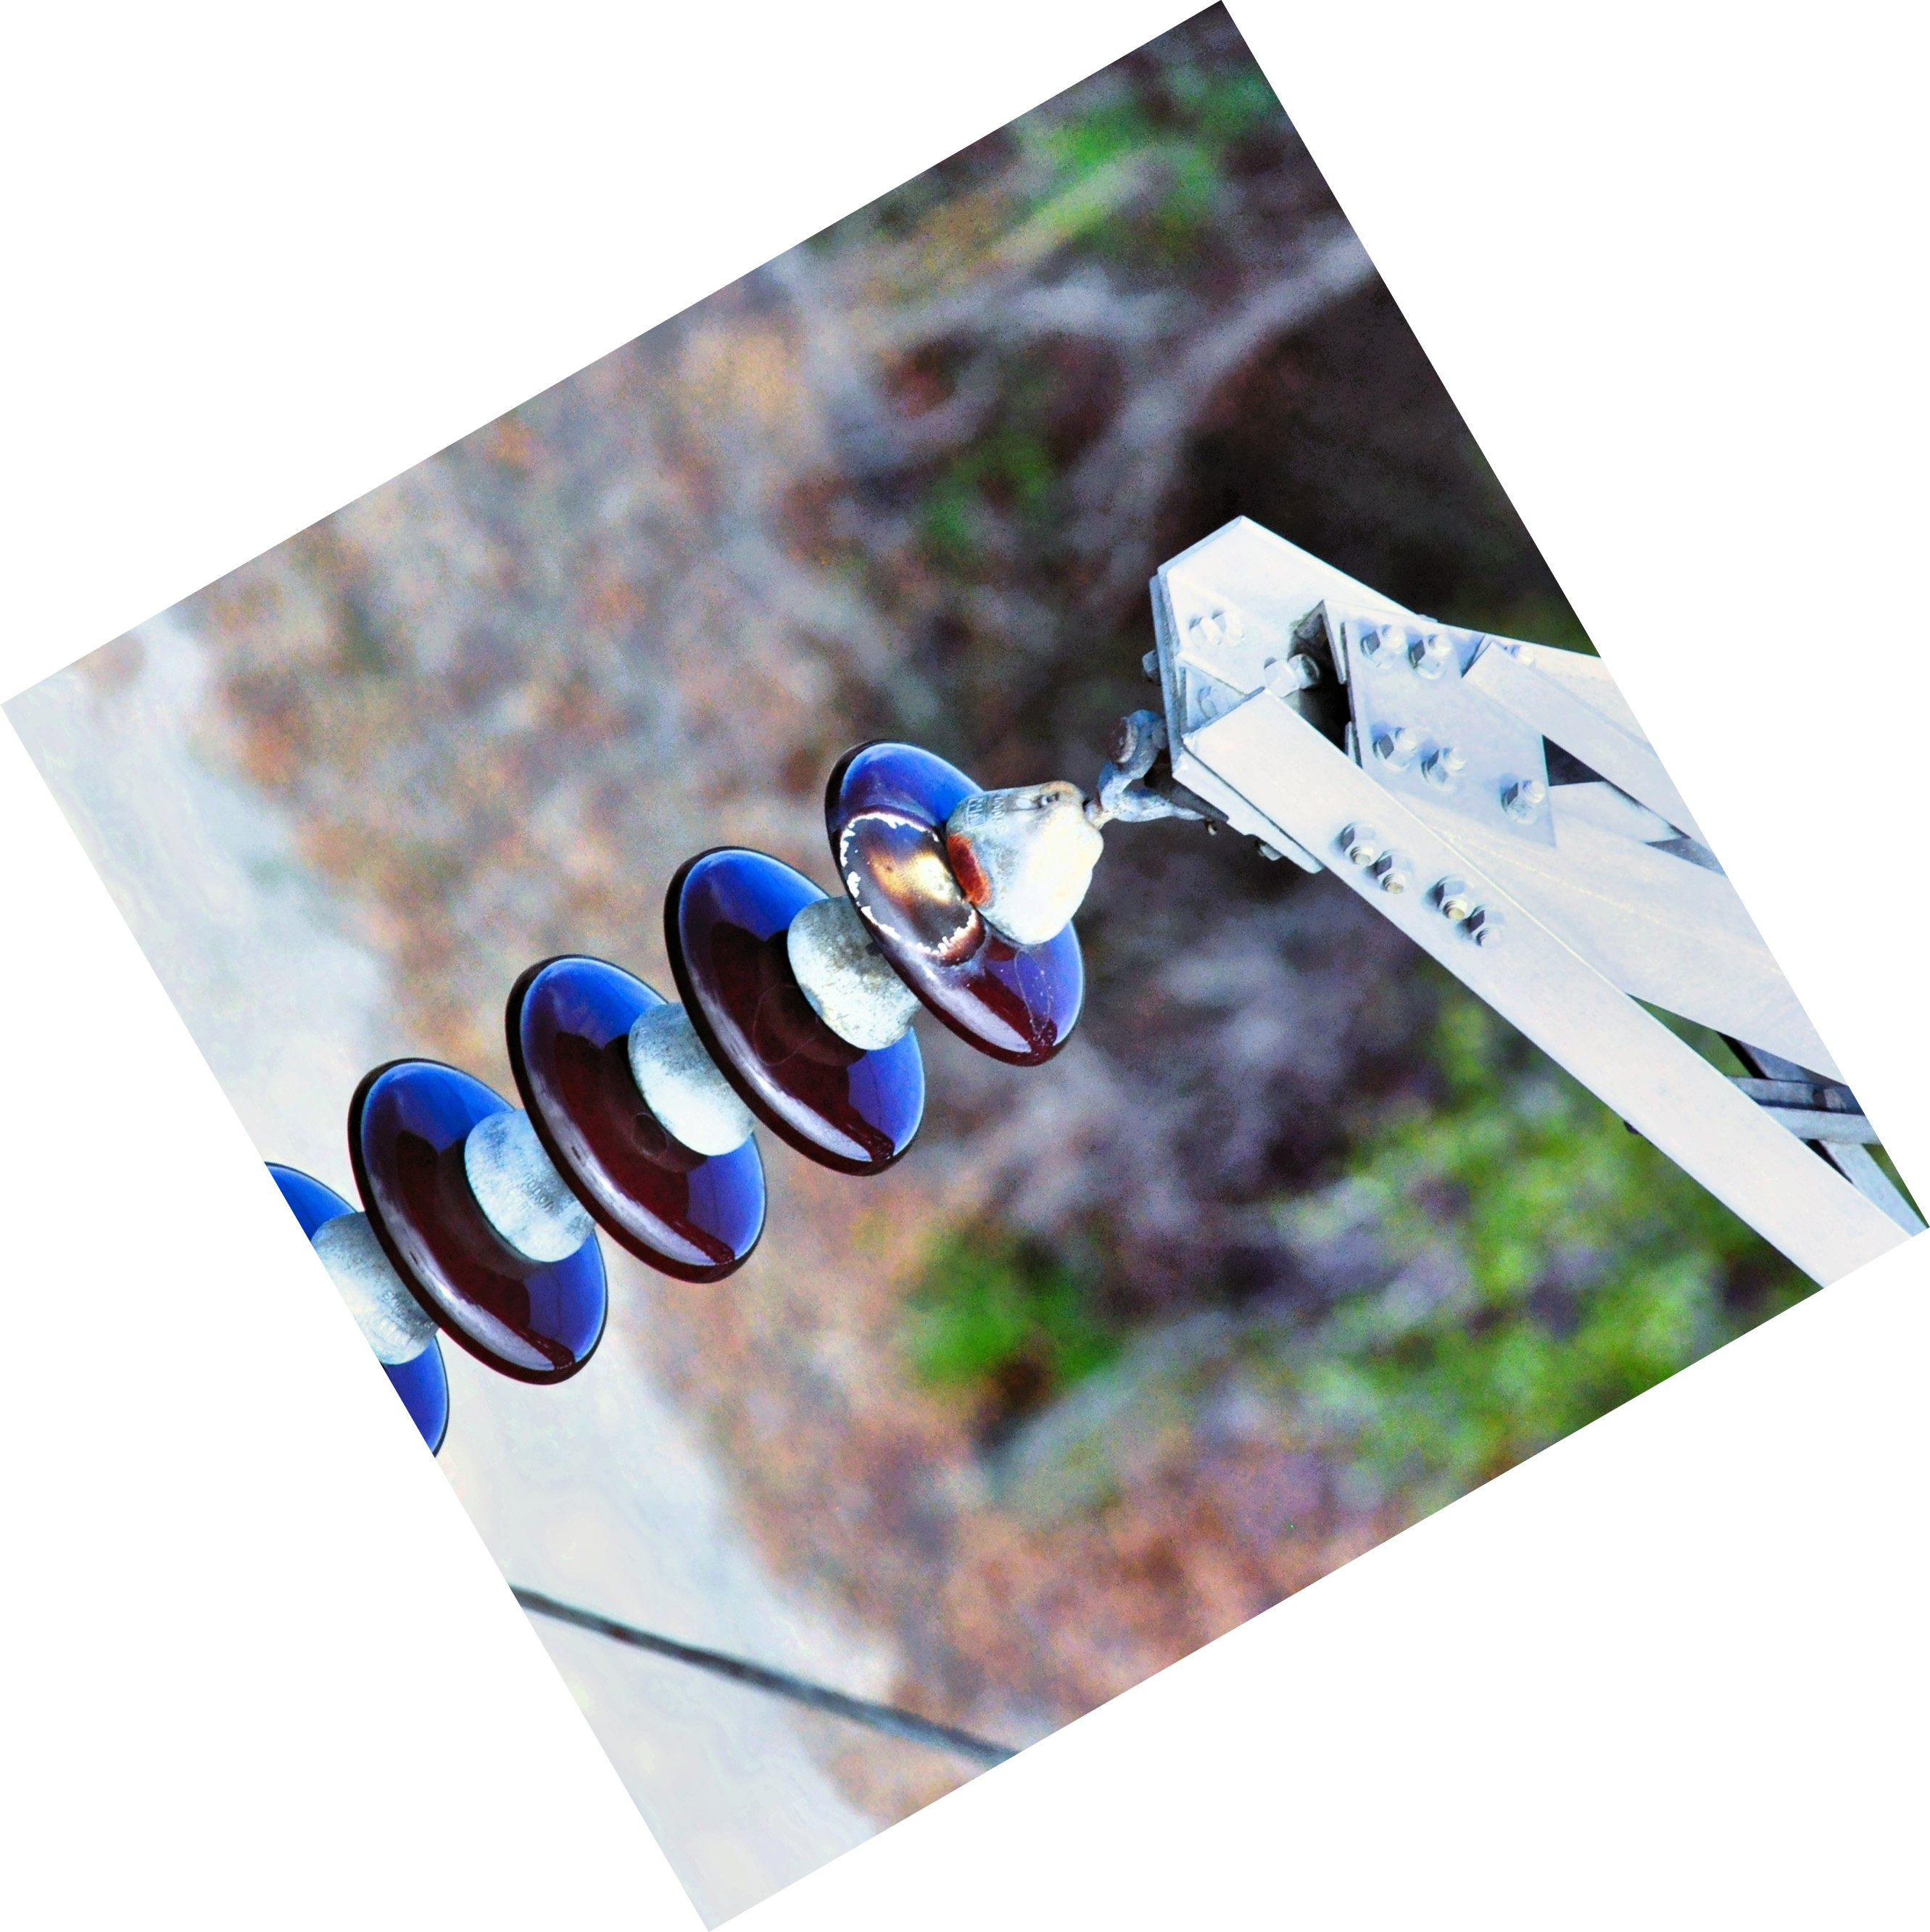Insulator flashover: (795, 719, 1144, 1085)
